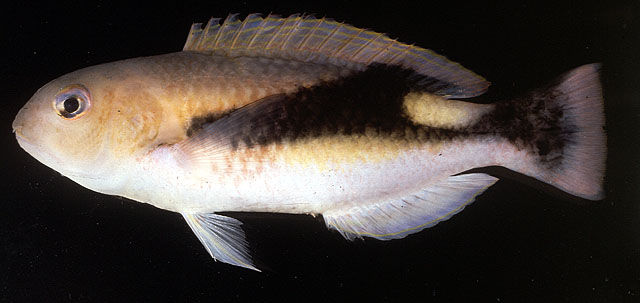fish: (12, 14, 607, 272)
